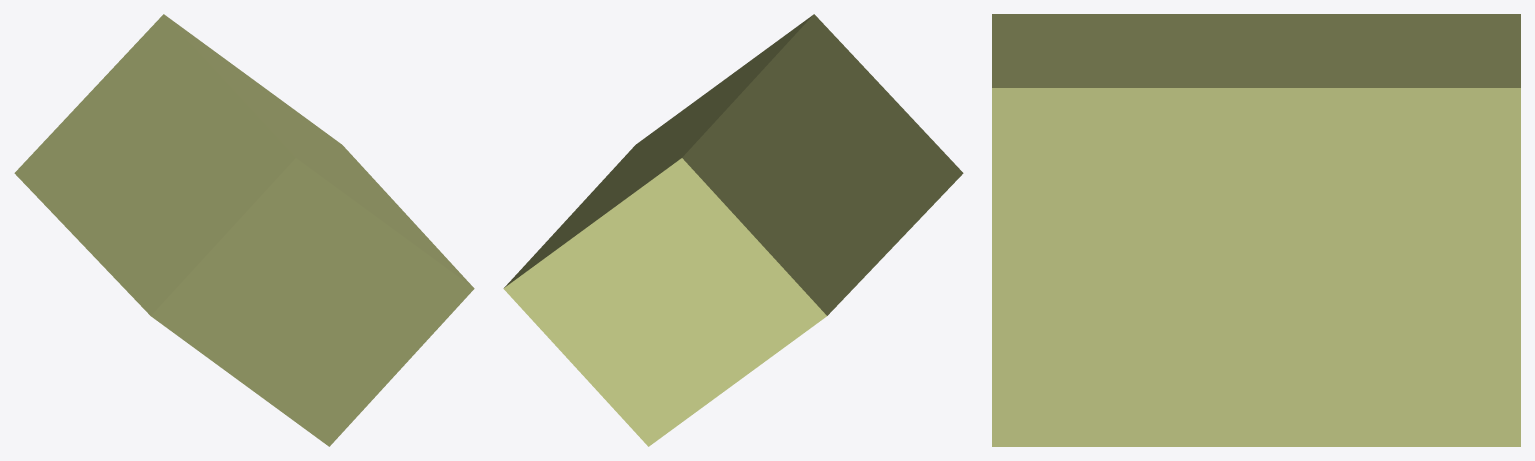
3 renders of one model, left to right at view 1: azimuth 30°, elevation 25°; view 2: azimuth 150°, elevation 25°; view 3: azimuth 270°, elevation 25°, orthographic. The views are drawn at different scales.
Parts seen in each view (by area): view 1: 0_1_2_3_0_0_0_0_2_2; view 2: 0_1_2_3_0_0_0_0_2_2; view 3: 0_1_2_3_0_0_0_0_2_2.
Boxes of the visible parts, <box> form: 0_1_2_3_0_0_0_0_2_2: <box>14,14,474,446</box>; 0_1_2_3_0_0_0_0_2_2: <box>503,14,963,446</box>; 0_1_2_3_0_0_0_0_2_2: <box>992,14,1520,446</box>.
Bounding box in the file's own units: 5.46 × 5.54 × 6.
